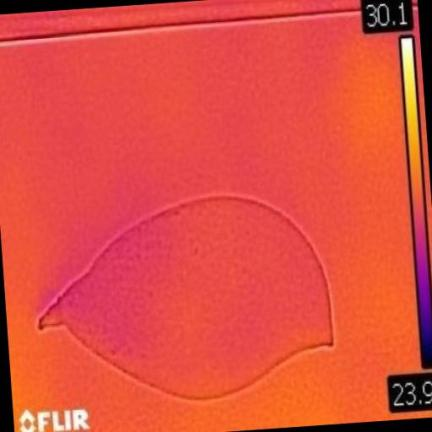mango: (41, 196, 333, 398)
